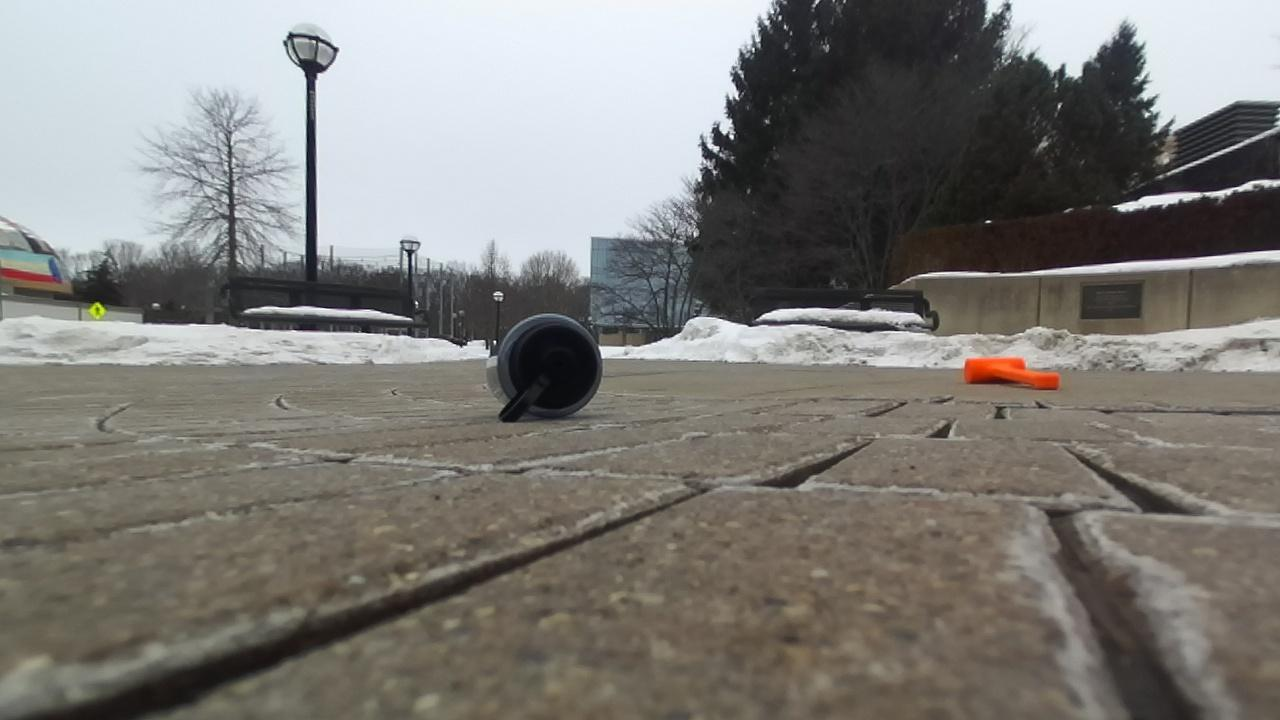bottle: (487, 313, 602, 421)
mallet: (963, 357, 1059, 389)
